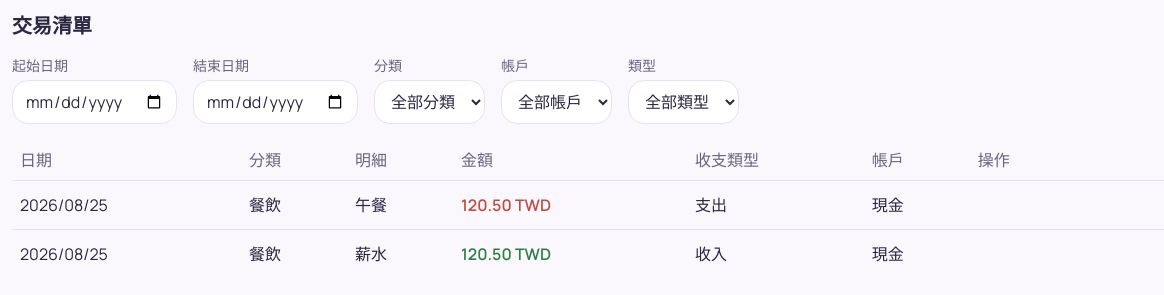
Test: TransactionList › 帳戶 / 類型篩選在前端過濾掉不符合的項目（後端查詢參數不支援這兩個欄位）
Expected: the text "午餐" is shown, [347,180,453,230]
Expected: the text "薪水" is shown, [347,230,453,278]
Select "收入" in the dropdown labelled "類型" at {"x": 684, "y": 102}, box [628,80,739,124]
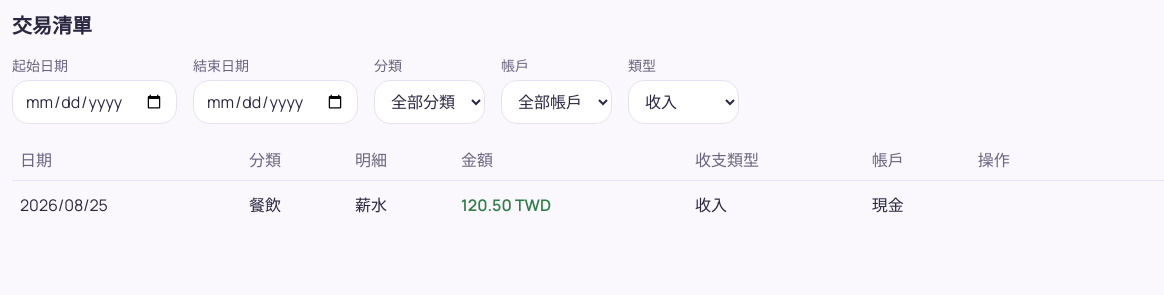
Expected: the text "薪水" is shown, [347,180,453,229]
Expected: the text "午餐" is gone
